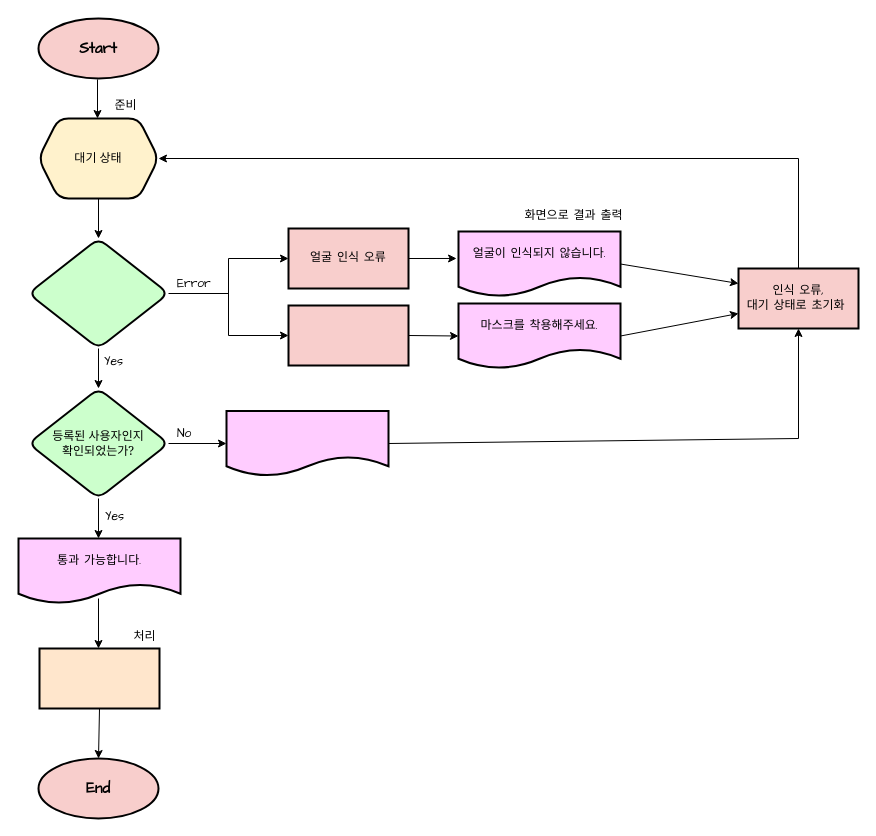
The diagram is 876 pixels wide and 836 high, and some of its shapes have lost their labels. The shapes that lost their labels are listed below. From the top down, each one's box as (x1, y1, x2, y2) in pixels, then its label:
(27, 237, 169, 349): 마스크를 착용하였는가?
(287, 304, 409, 366): 마스크 인식 오류
(225, 410, 389, 476): 등록되지 않은 사용자입니다.
(38, 647, 160, 709): DB에 등록된 휴대폰번호로 출입문자 전송
